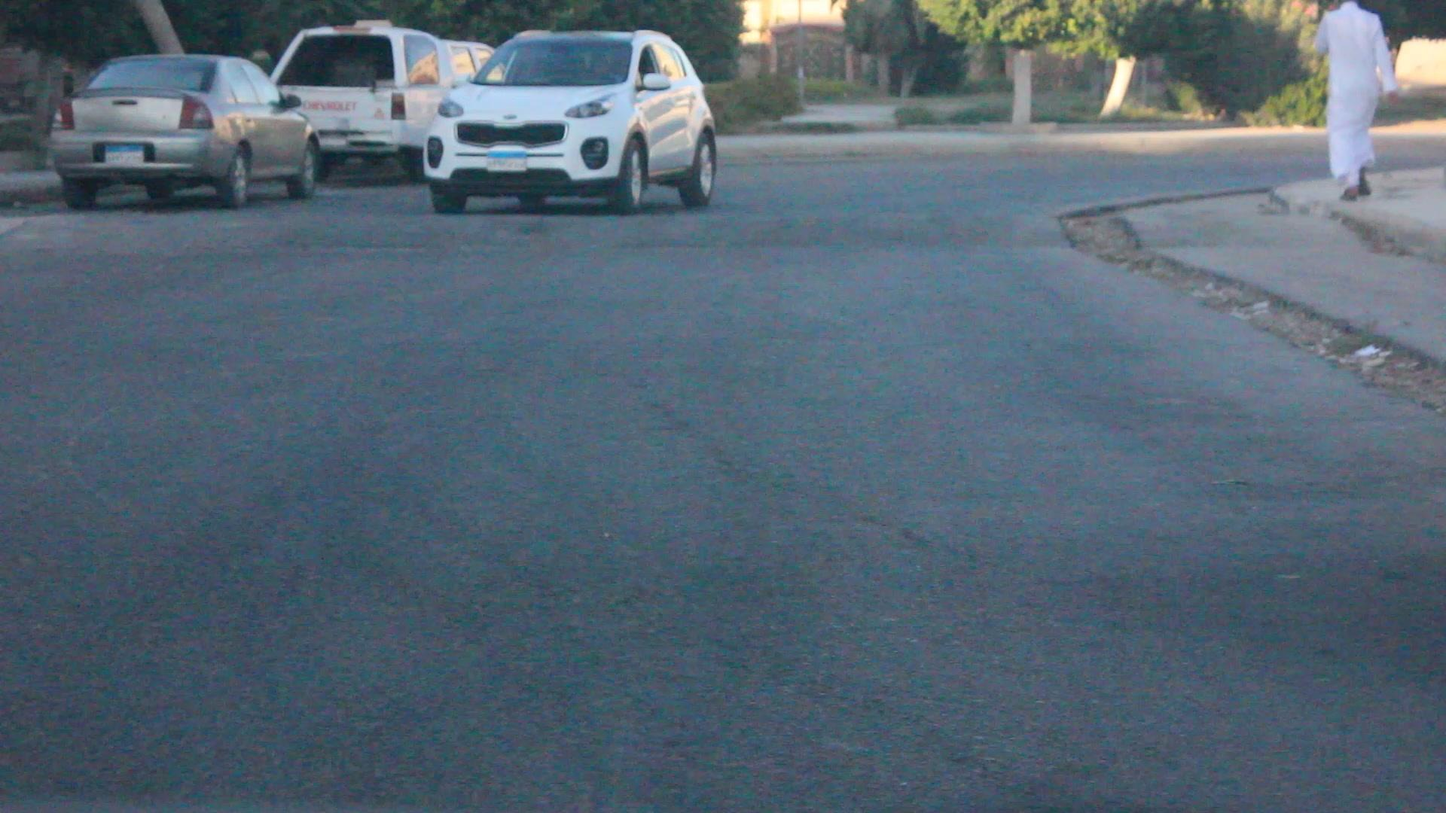Bump: (0, 196, 1090, 262)
